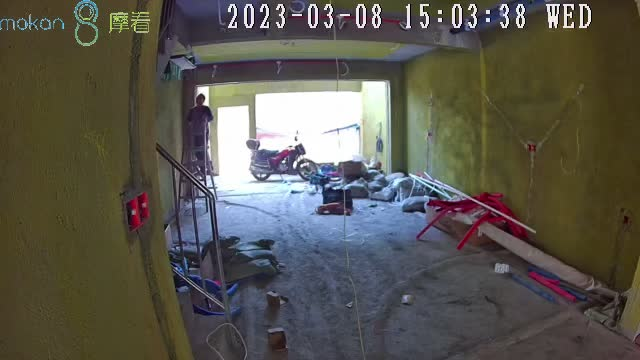people: (186, 94, 214, 179)
window: (257, 93, 361, 157)
